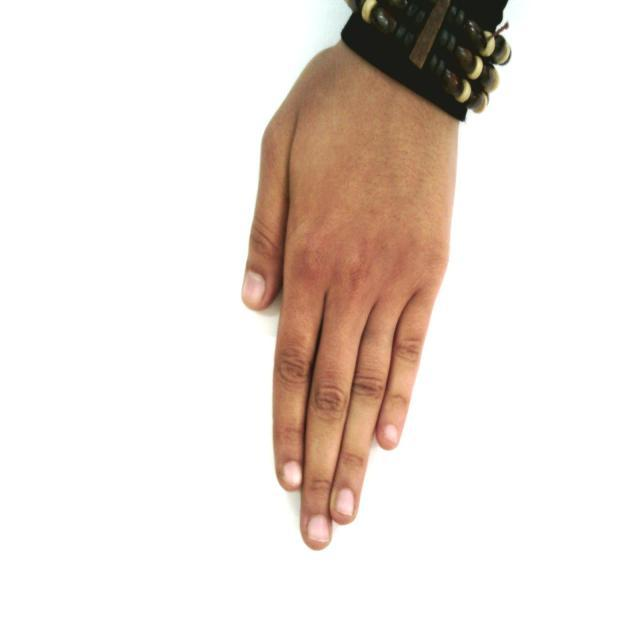Fingernail: (243, 272, 264, 305), (309, 516, 329, 543), (335, 488, 354, 515), (283, 462, 300, 486), (382, 424, 398, 445)
